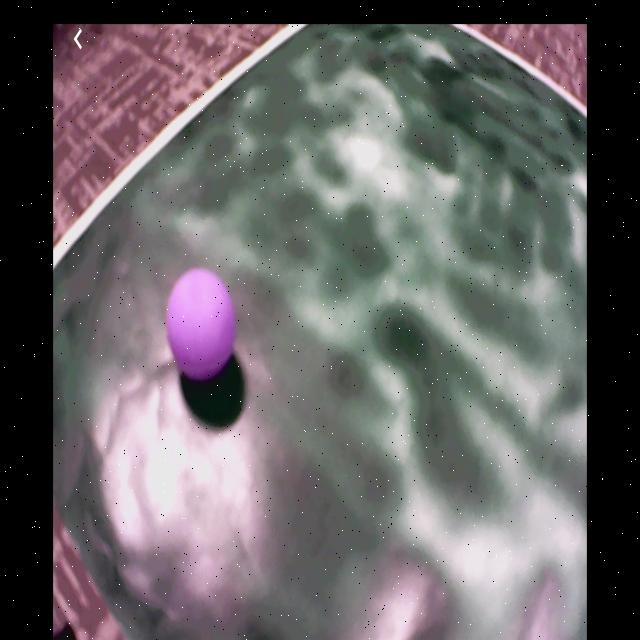ball: (166, 269, 238, 382)
